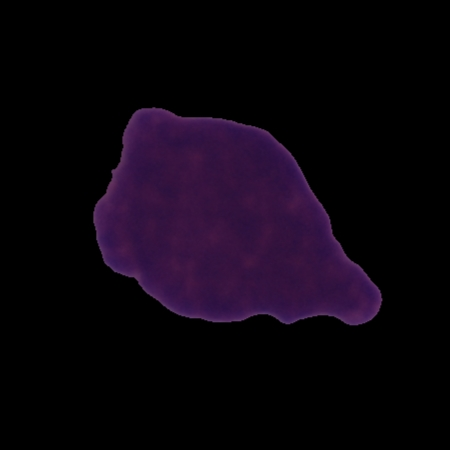ALL: (89, 104, 385, 329)
